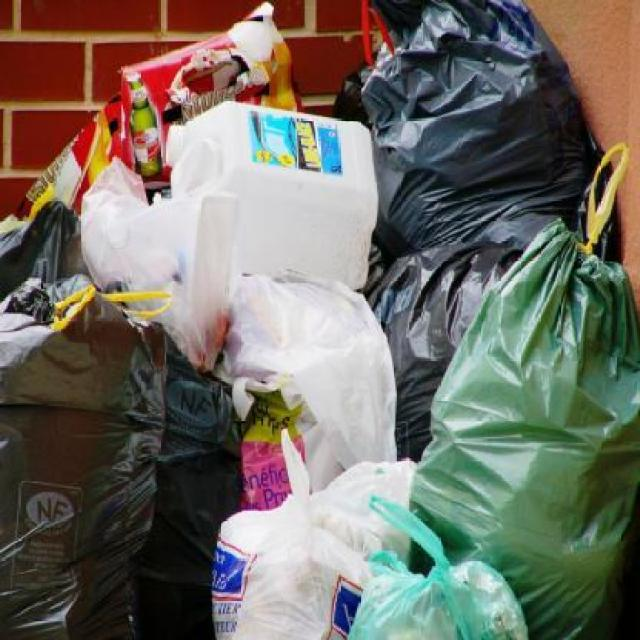plastic bag: (0, 0, 638, 638), (417, 195, 640, 640)
